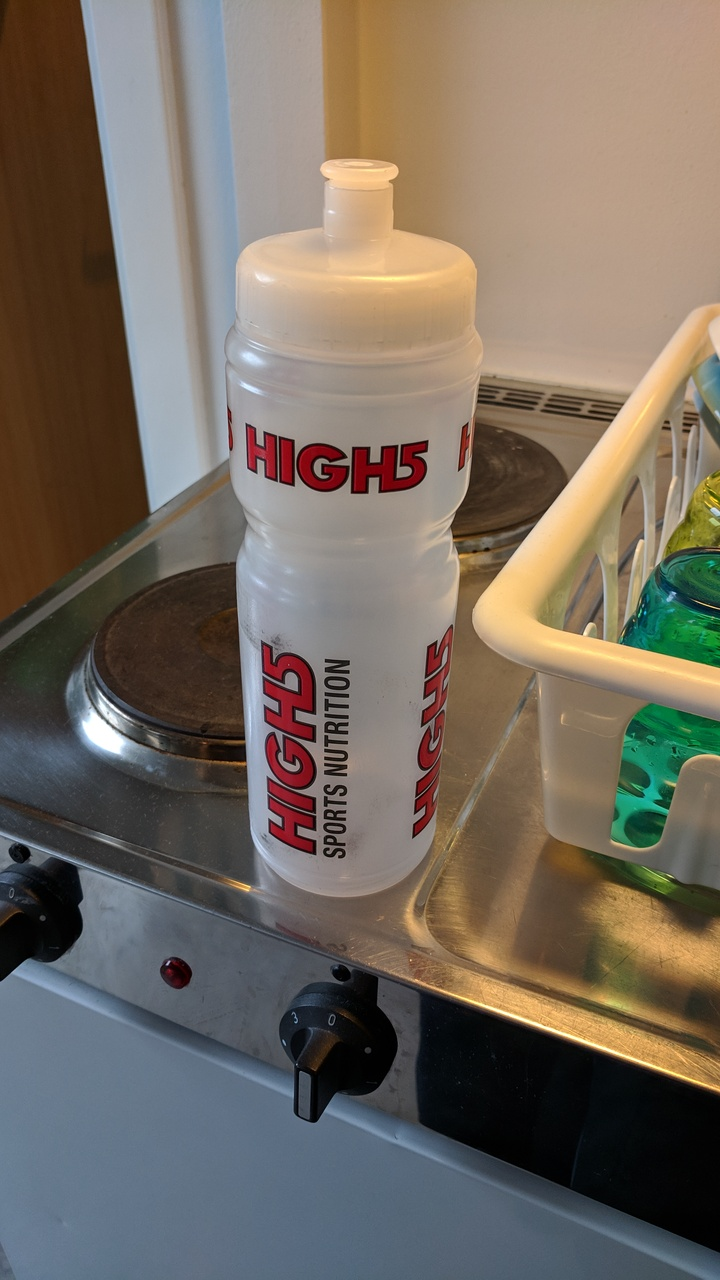high five bottle: (209, 151, 487, 896)
